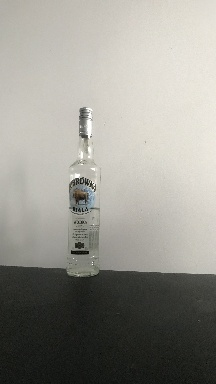butelka: (65, 104, 102, 279)
